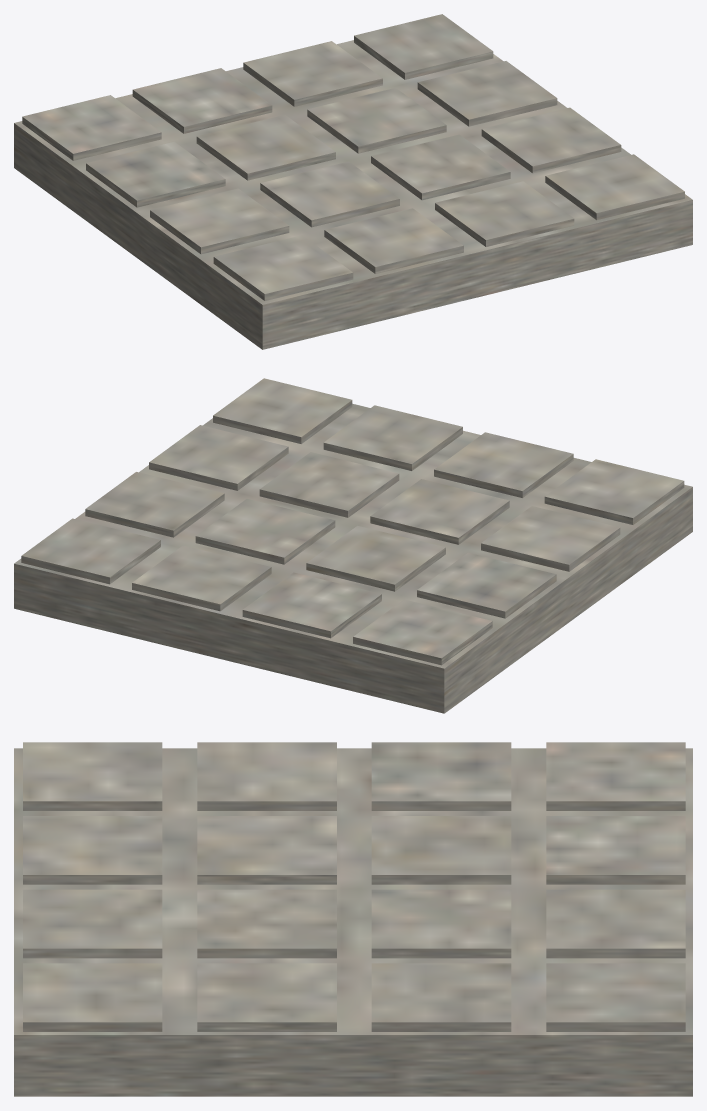
File: Alchemy Assets Browser.fbx_Floor.fbx
3 renders of one model, top to bottom at view 1: azimuth 30°, elevation 25°; view 2: azimuth 150°, elevation 25°; view 3: azimuth 270°, elevation 25°, orthographic. The views are drawn at different scales.
Parts seen in each view (by area): view 1: Floor; view 2: Floor; view 3: Floor.
Boxes of the visible parts, x1=… form: Floor: x1=14, y1=14, x2=692, y2=349; Floor: x1=14, y1=378, x2=692, y2=713; Floor: x1=14, y1=742, x2=692, y2=1096.
Bounding box in the file's own units: 200 × 23.11 × 200.
